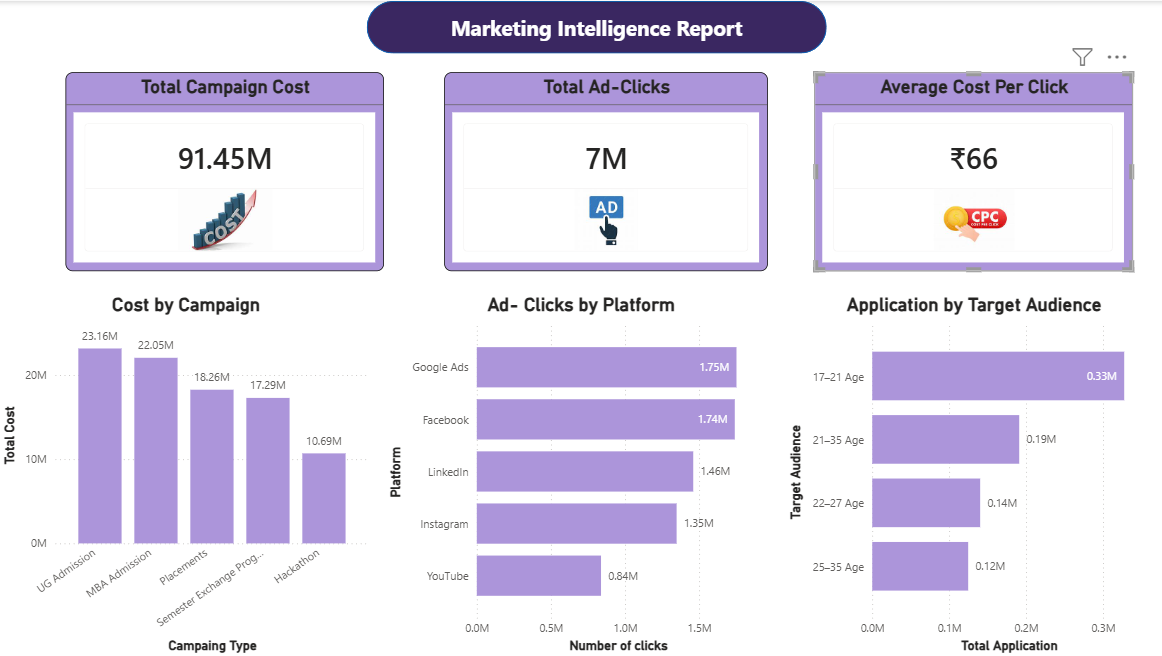

Layout of this report page (visuals, bound fields, positions):
{"tool":"powerbi","page":{"name":"Page 1","canvas":[1280,720],"ordinal":0},"visuals":[{"type":"columnChart","title":"Cost by Campaign","fields":{"Category":["CampaignPerformance.CampaignName"],"Y":["Sum(CampaignPerformance.Cost (₹))"]},"box":[0,321.1,413,399.3],"z":0},{"type":"cardVisual","title":"Total Ad-Clicks","fields":{"Data":["Sum(CampaignPerformance.Clicks)"]},"box":[489.9,78.2,355.4,218.2],"z":1000},{"type":"barChart","title":"Ad- Clicks by Platform","fields":{"Category":["CampaignPerformance.Platform"],"Y":["Sum(CampaignPerformance.Clicks)"]},"box":[424,321.1,432.2,399.3],"z":2000},{"type":"clusteredBarChart","title":"Application by Target Audience","fields":{"Category":["CampaignPerformance.TargetAudience"],"Y":["Sum(CampaignPerformance.Applications)"]},"box":[863.1,321.1,417.2,399.3],"z":3000},{"type":"cardVisual","title":"Total Campaign Cost ","fields":{"Data":["Sum(CampaignPerformance.Cost (₹))"]},"box":[74.1,78.2,349.9,218.2],"z":4000},{"type":"shape","box":[404.8,0,505,57.6],"z":7000},{"type":"cardVisual","title":"Average Cost Per Click","fields":{"Data":["Sum(ChannelRates.AvgCPC)"]},"box":[896.1,78.2,349.9,218.2],"z":8002}]}

Visuals, with their boxes in screenshot pixels (x1, y1, x2, y2), scaled from the page's 1280x720 canvas onto the 1162x656 screenshot:
"Cost by Campaign" columnChart: {"x1": 0, "y1": 293, "x2": 375, "y2": 655}
"Total Ad-Clicks" cardVisual: {"x1": 445, "y1": 71, "x2": 767, "y2": 270}
"Ad- Clicks by Platform" barChart: {"x1": 385, "y1": 293, "x2": 777, "y2": 655}
"Application by Target Audience" clusteredBarChart: {"x1": 784, "y1": 293, "x2": 1161, "y2": 655}
"Total Campaign Cost " cardVisual: {"x1": 67, "y1": 71, "x2": 385, "y2": 270}
shape: {"x1": 367, "y1": 0, "x2": 826, "y2": 52}
"Average Cost Per Click" cardVisual: {"x1": 813, "y1": 71, "x2": 1131, "y2": 270}
